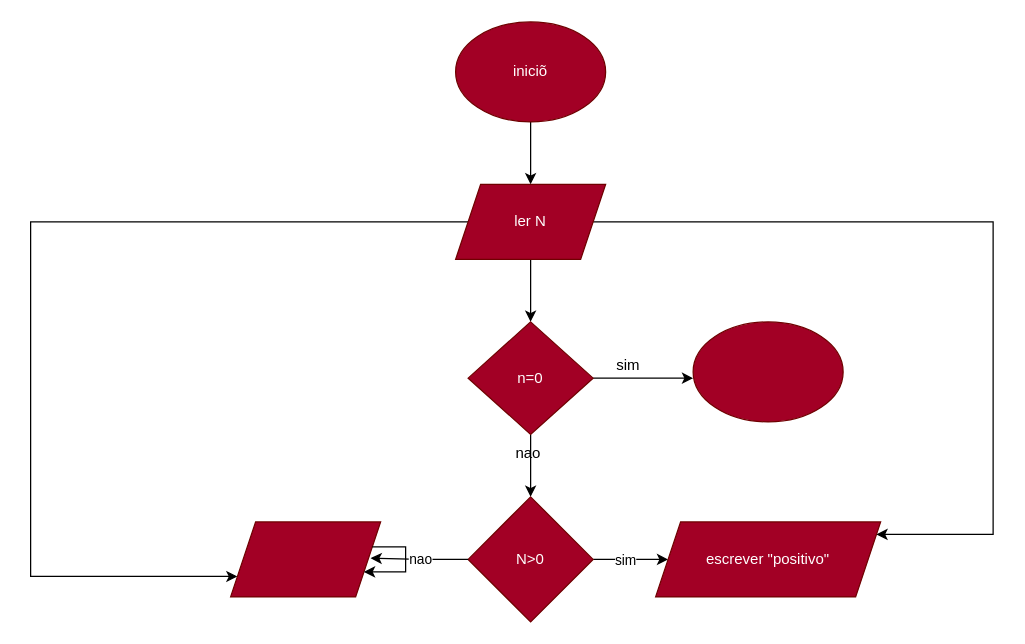
Image size: 1025x644. Some labels were removed from this diagram. Here are the shapes that lost their labels. From the top down, the centre of each, then its label:
(767,371): fim
(305,559): escrever"negitivo"
